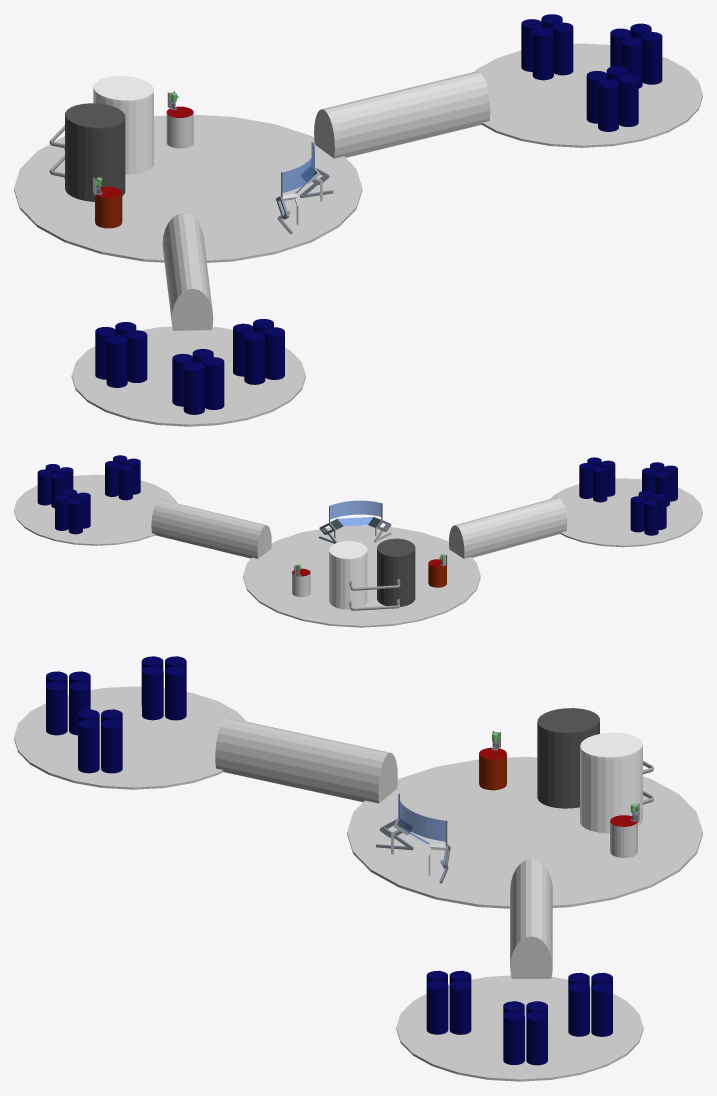
Rendered from FACENS_O2fac_Floor.obj.
The picture shows the model from 3 angles, top to bottom: view 1: azimuth 30°, elevation 25°; view 2: azimuth 150°, elevation 25°; view 3: azimuth 270°, elevation 25°; orthographic projection. The views are drawn at different scales.
Parts seen in each view (by area): view 1: Mesh172, Group14, Group12, CONTROLE_P, Mesh39, Mesh27, Mesh35, Mesh43, Mesh29, Mesh49, Mesh31, Mesh41 (+11 smaller); view 2: Mesh172, Group12, Group14, CONTROLE_P, Mesh26, Mesh28, Mesh40, Mesh46, Mesh36, Mesh32, Mesh34, Mesh30 (+11 smaller); view 3: Mesh172, Group12, Group14, CONTROLE_P, Mesh33, Mesh30, Mesh26, Mesh45, Mesh46, Mesh34, Mesh37, Mesh41 (+6 smaller).
Part boxes in pixels (box(x1,y1,x2,y2)): Mesh172: box(14, 43, 702, 426); Group14: box(65, 103, 125, 201); Group12: box(93, 76, 153, 174); CONTROLE_P: box(276, 142, 333, 233); Mesh39: box(532, 27, 553, 80); Mesh27: box(106, 335, 127, 387); Mesh35: box(244, 332, 265, 384); Mesh43: box(183, 362, 204, 414); Mesh29: box(126, 330, 147, 382); Mesh49: box(641, 32, 662, 84); Mesh31: box(598, 79, 618, 131); Mesh41: box(552, 22, 573, 75); Mesh172: box(14, 474, 702, 627); Group12: box(329, 541, 367, 609); Group14: box(377, 538, 415, 606); CONTROLE_P: box(319, 500, 391, 543); Mesh26: box(630, 496, 644, 532); Mesh28: box(644, 499, 658, 535); Mesh40: box(68, 498, 82, 534); Mesh46: box(37, 469, 51, 505); Mesh36: box(593, 466, 607, 502); Mesh32: box(118, 464, 132, 500); Mesh34: box(579, 463, 593, 498); Mesh30: box(105, 461, 119, 496); Mesh172: box(14, 686, 702, 1081); Group12: box(580, 732, 642, 832); Group14: box(537, 708, 599, 808); CONTROLE_P: box(376, 793, 450, 883); Mesh33: box(426, 980, 448, 1034); Mesh30: box(449, 980, 471, 1034); Mesh26: box(165, 666, 186, 720); Mesh45: box(46, 681, 67, 735); Mesh46: box(526, 1011, 547, 1065); Mesh34: box(101, 719, 122, 773); Mesh37: box(78, 719, 99, 773); Mesh41: box(568, 982, 589, 1036).
Size of what is drawn, in the model's own units: 1598 by 149 by 1184.
